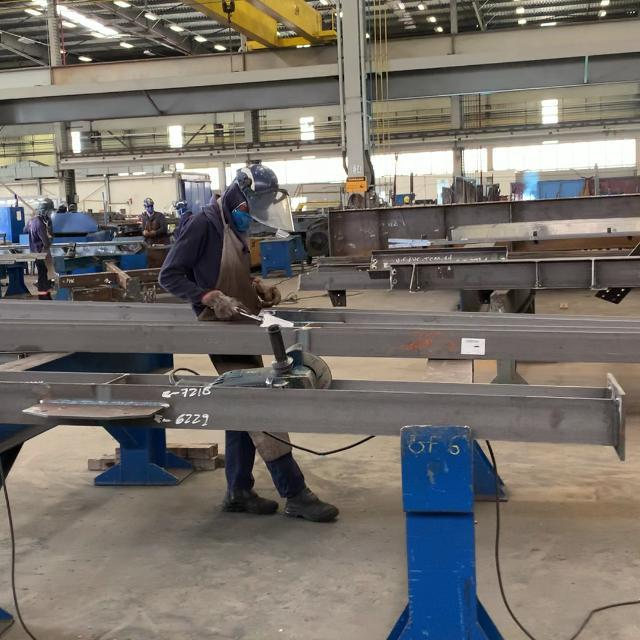eye-glass: (243, 186, 295, 234)
face-shield: (196, 289, 244, 319), (256, 281, 282, 308)
glove: (235, 164, 279, 198)
mask: (155, 161, 298, 320)
safety-shoe: (282, 487, 341, 524), (220, 485, 279, 513)
